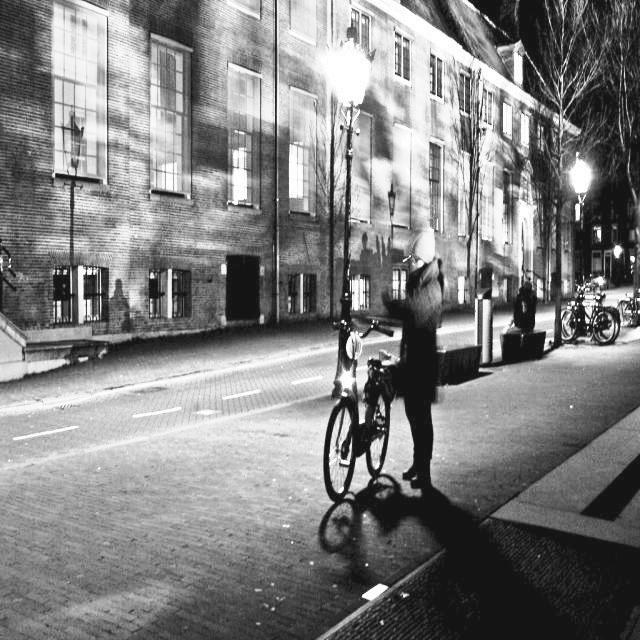Bicycle: (320, 303, 409, 511), (531, 266, 623, 354), (591, 254, 640, 382)
